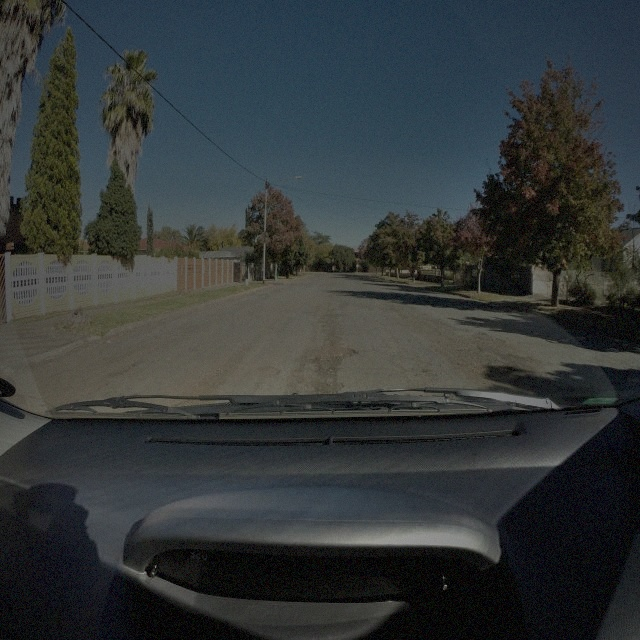pothole: (314, 341, 357, 363), (250, 364, 280, 382)
